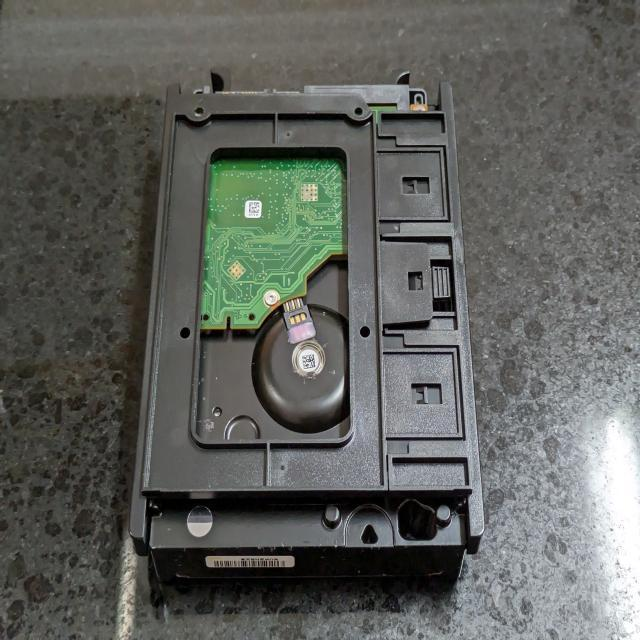DISK: (130, 84, 484, 583)
